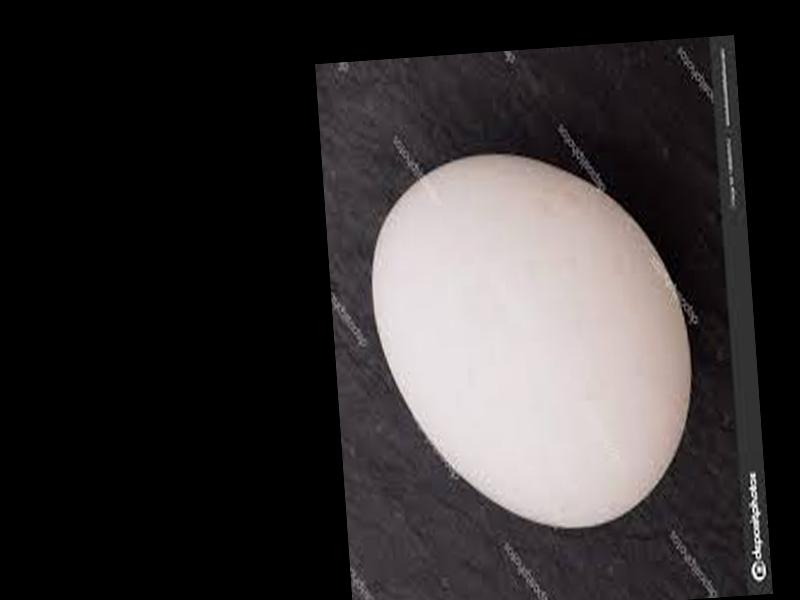Eggs: (366, 141, 702, 540)
